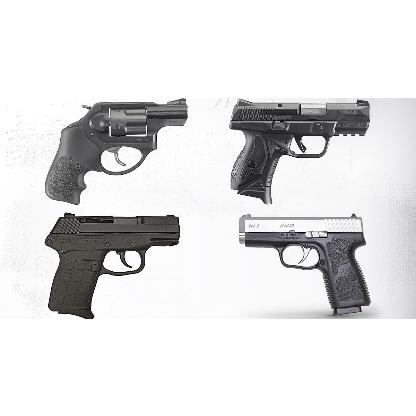gun: (42, 98, 192, 204), (231, 97, 373, 203), (234, 211, 372, 313), (44, 212, 178, 316)
